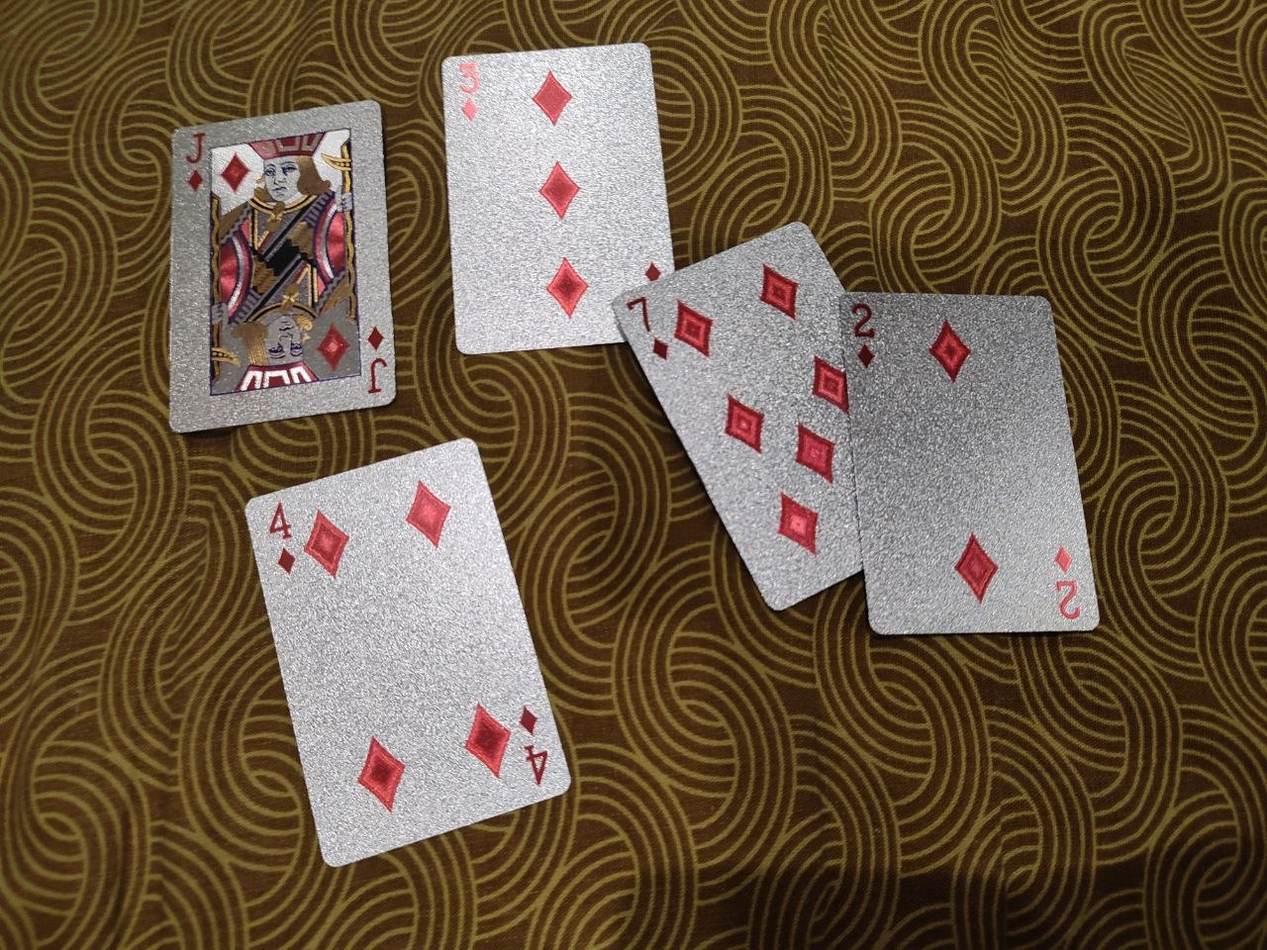2D: (839, 290, 1105, 634)
3D: (441, 40, 677, 354)
4D: (246, 437, 572, 867)
7D: (615, 221, 864, 609)
JD: (167, 97, 400, 432)
